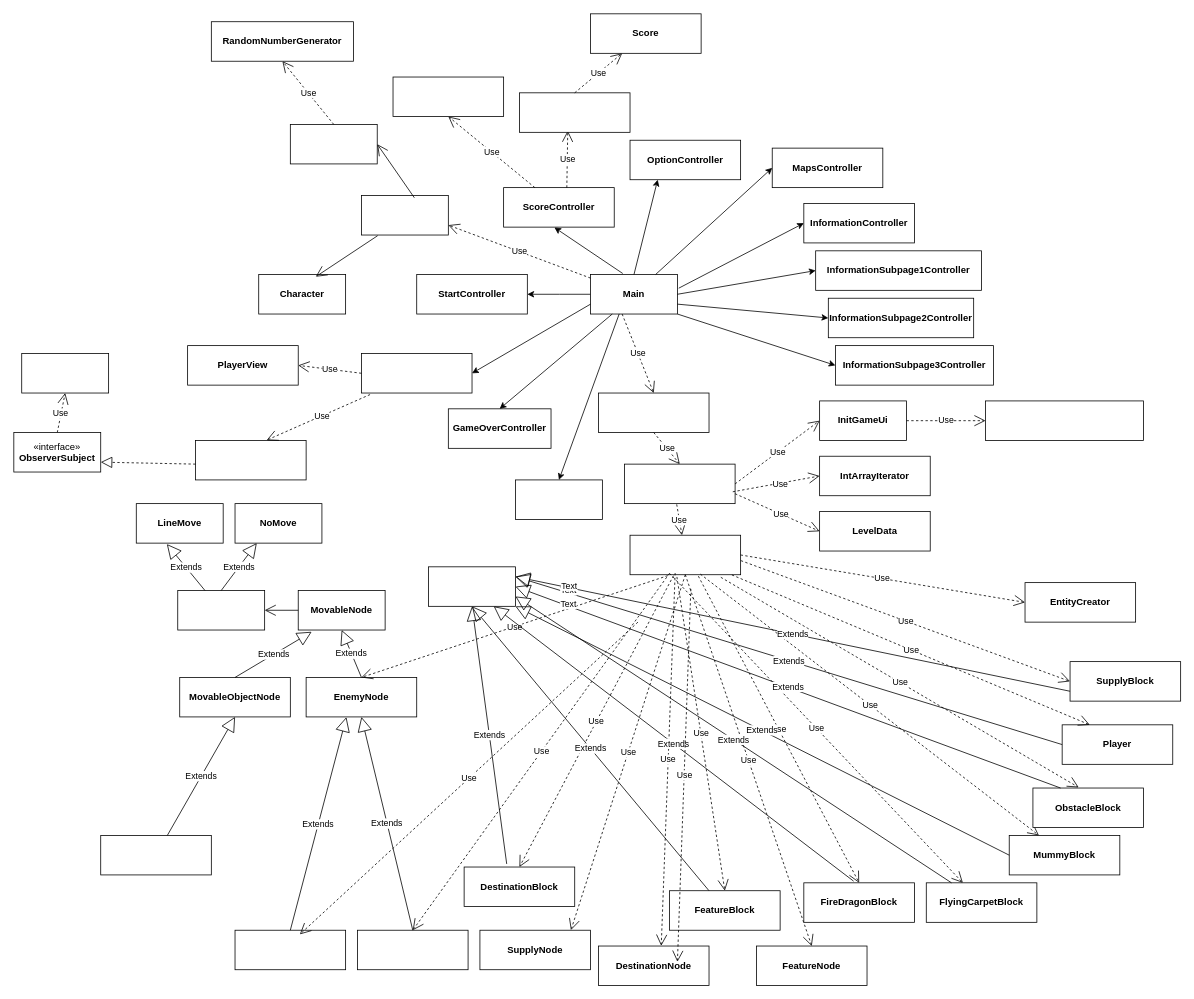
The diagram is 1194 pixels wide and 999 high, and some of its shapes have lost their labels. Here are the shapes that lost their labels. From the top down, the centre of each, then its label:
pixel 448 96: ScoreCalculator
pixel 574 112: ScoreManage
pixel 333 144: Map
pixel 404 215: GameState
pixel 65 373: «interface» Observer
pixel 416 373: PlayerController
pixel 653 412: InitContent
pixel 1064 420: Counter
pixel 250 460: PlayerModel
pixel 558 499: HomeController
pixel 679 483: InitContentAdapter
pixel 685 554: EntitySelector
pixel 471 586: Entity
pixel 221 610: Movable
pixel 155 855: FlyingCarpetNode
pixel 290 949: MummyNode
pixel 412 949: FireDragonNode
